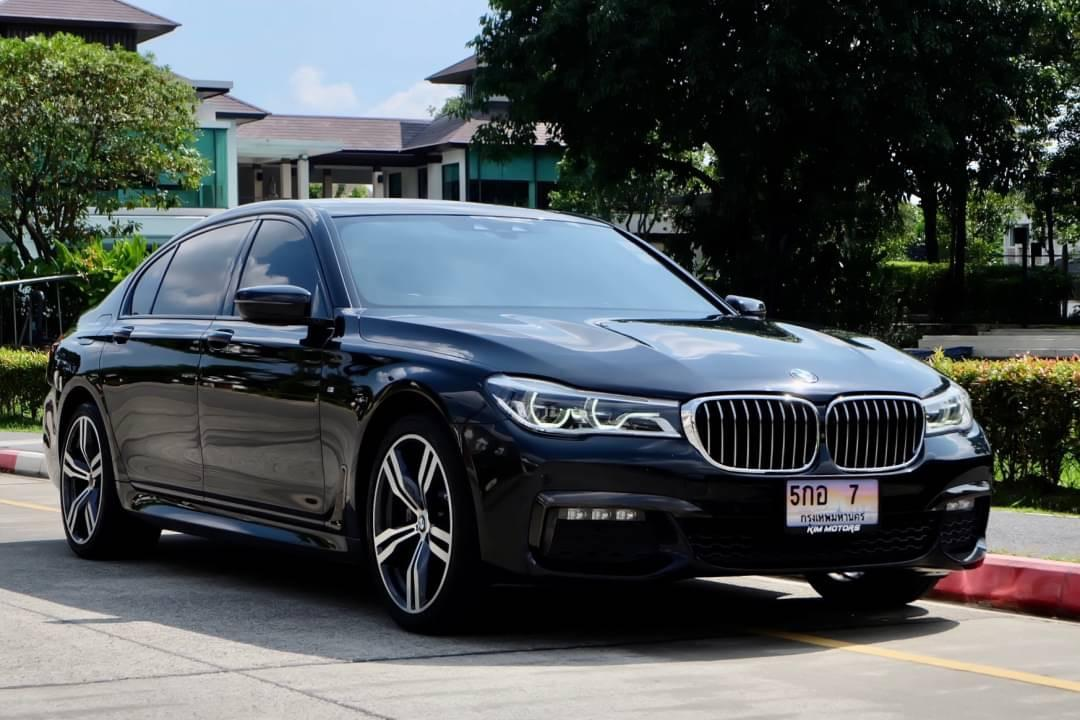license-plate: (782, 474, 883, 533)
